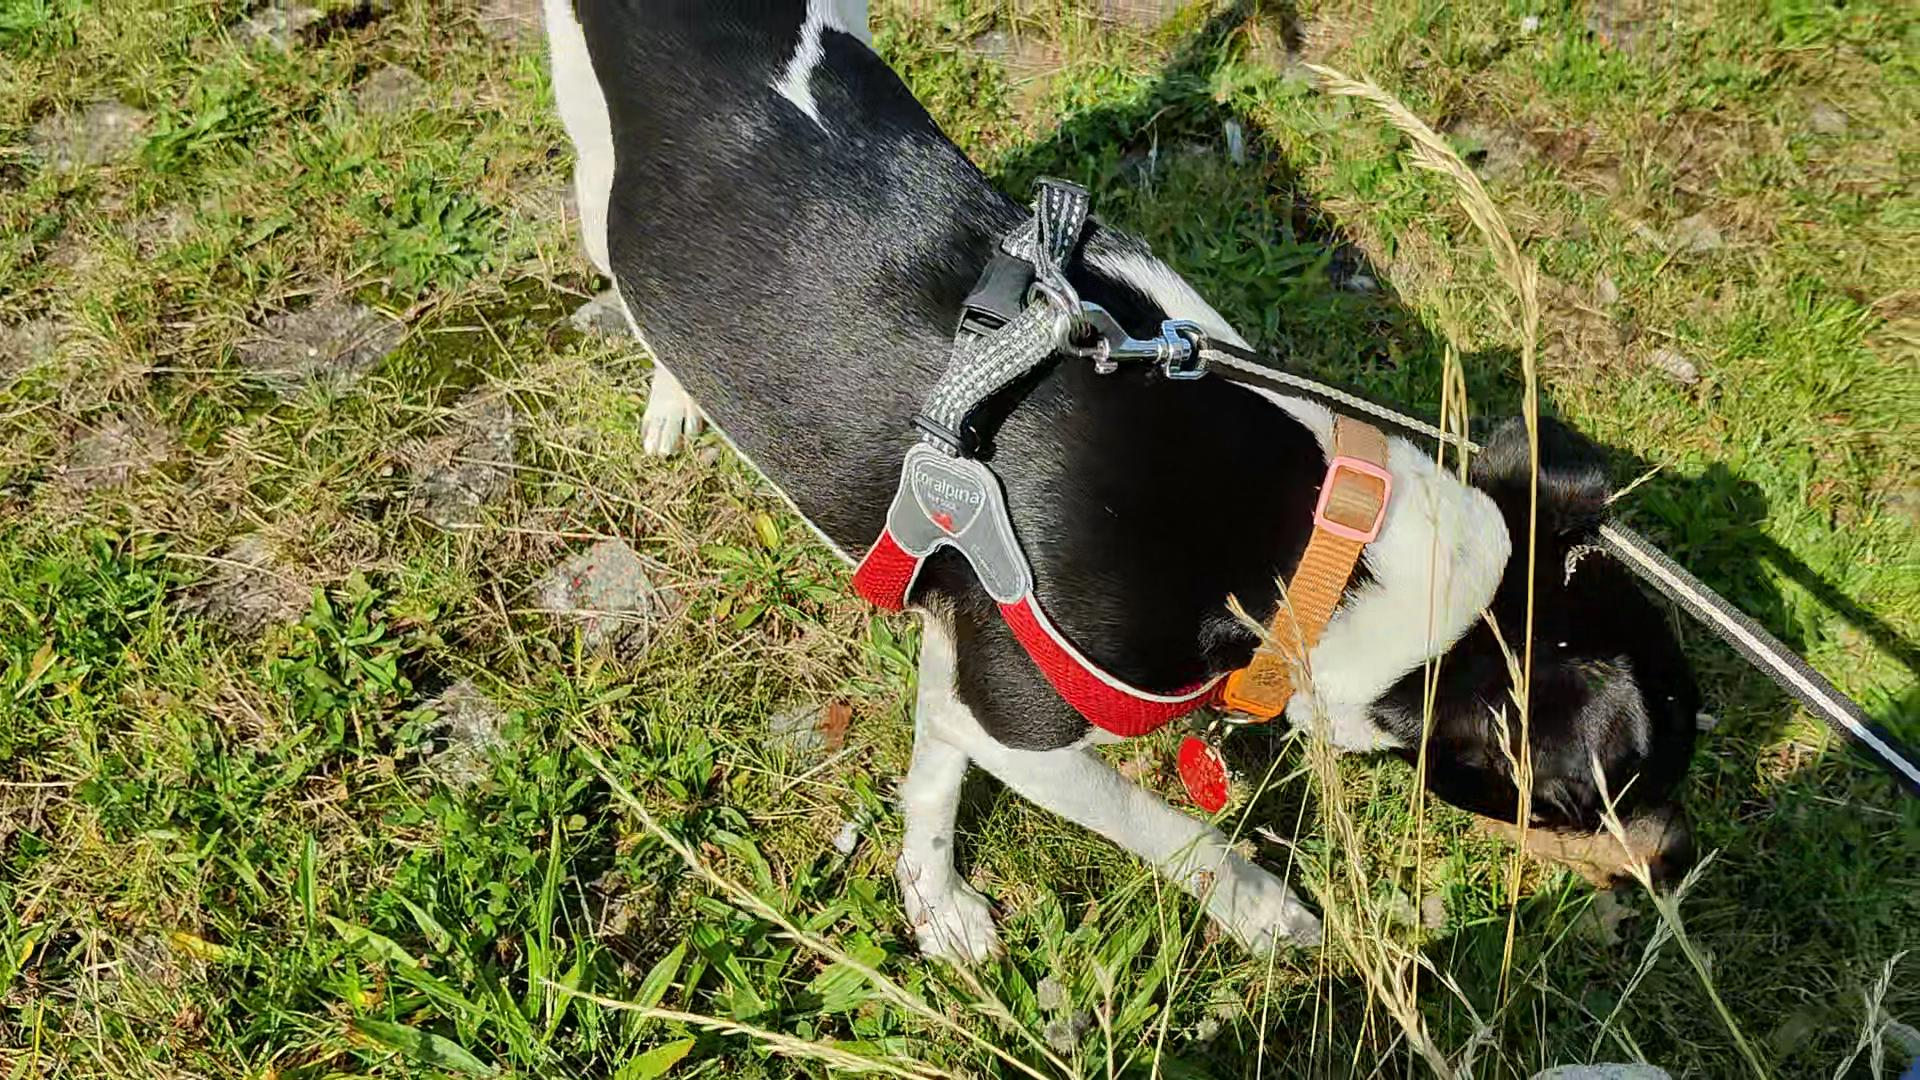Dog: (535, 0, 1741, 981)
